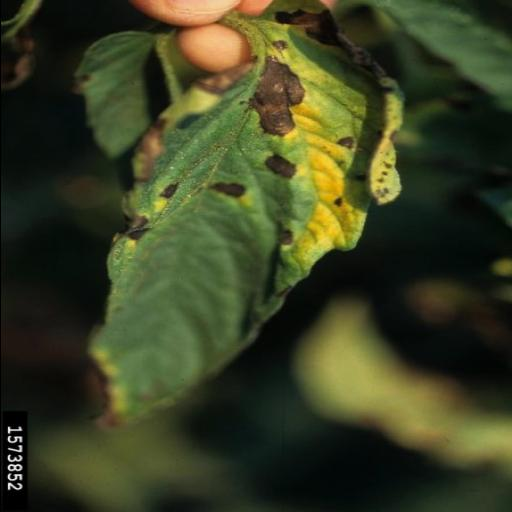Early Blight: (83, 13, 405, 439)
